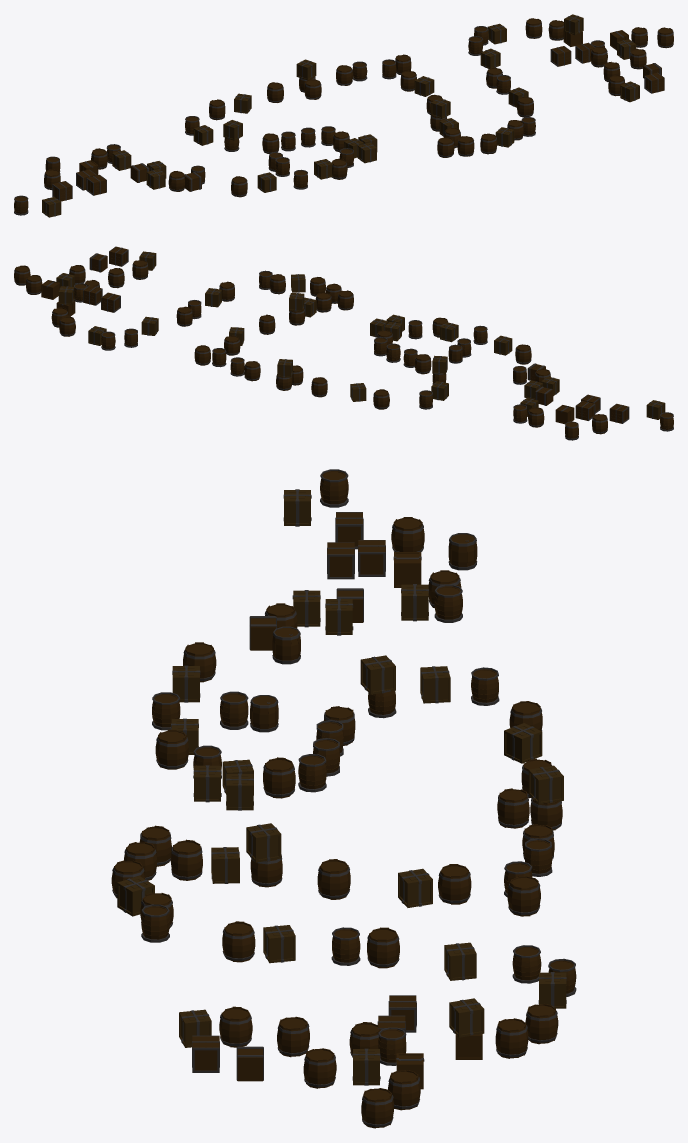
File: CanonLevelPathBarrels.glb
The picture shows the model from 3 angles, top to bottom: view 1: azimuth 30°, elevation 25°; view 2: azimuth 150°, elevation 25°; view 3: azimuth 270°, elevation 25°; orthographic projection. The views are drawn at different scales.
Parts seen in each view (by area): view 1: Barrel_3.036; view 2: Barrel_3.036; view 3: Barrel_3.036.
Part boxes in pixels (bbox=[...]): Barrel_3.036: bbox=[14, 14, 673, 217]; Barrel_3.036: bbox=[14, 246, 673, 440]; Barrel_3.036: bbox=[111, 469, 576, 1128].
Bounding box in the file's own units: 27.49 × 1.06 × 8.55.
